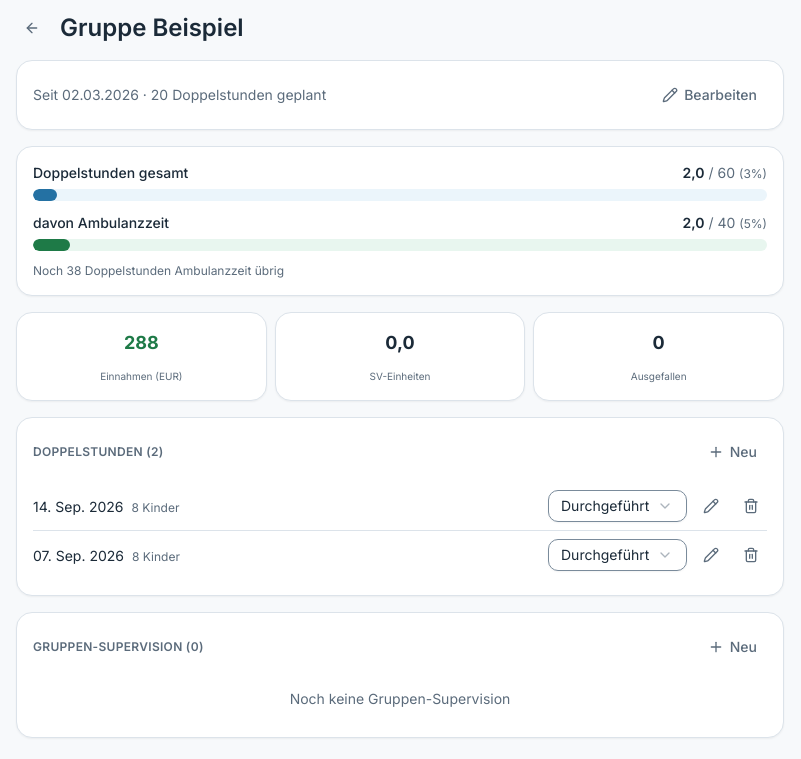
Test: GroupDetailClient › bearbeitet Name, Startdatum und geplante Doppelstunden nachträglich und zeigt den neuen Stand
Click the button "Bearbeiten".
click(710, 95)  # box [652,77,767,113]
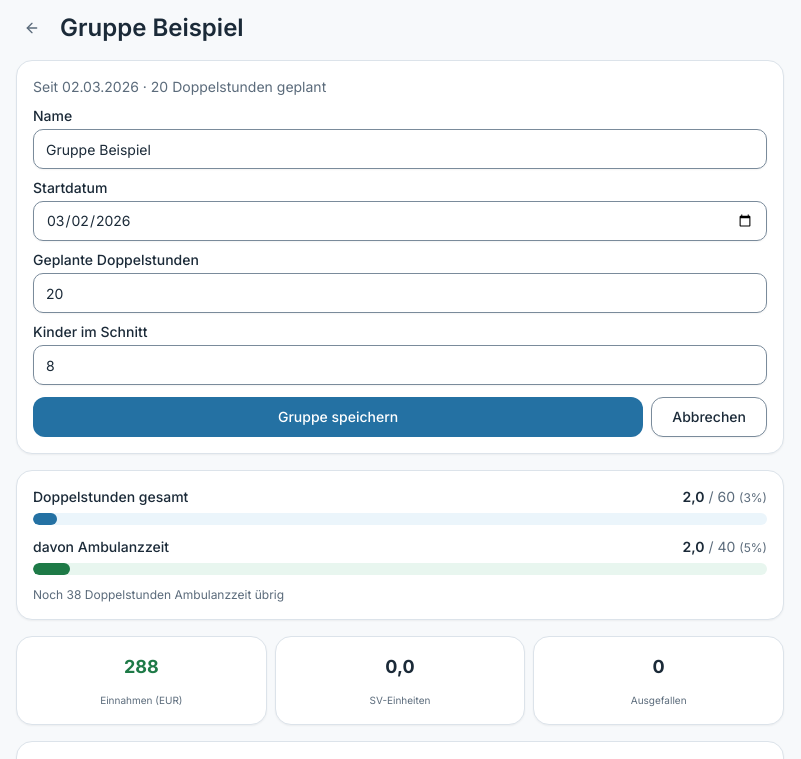
Replace the text in the field labelled "Name" with " PT-Gruppe " at (400, 149), box [33,129,767,169]
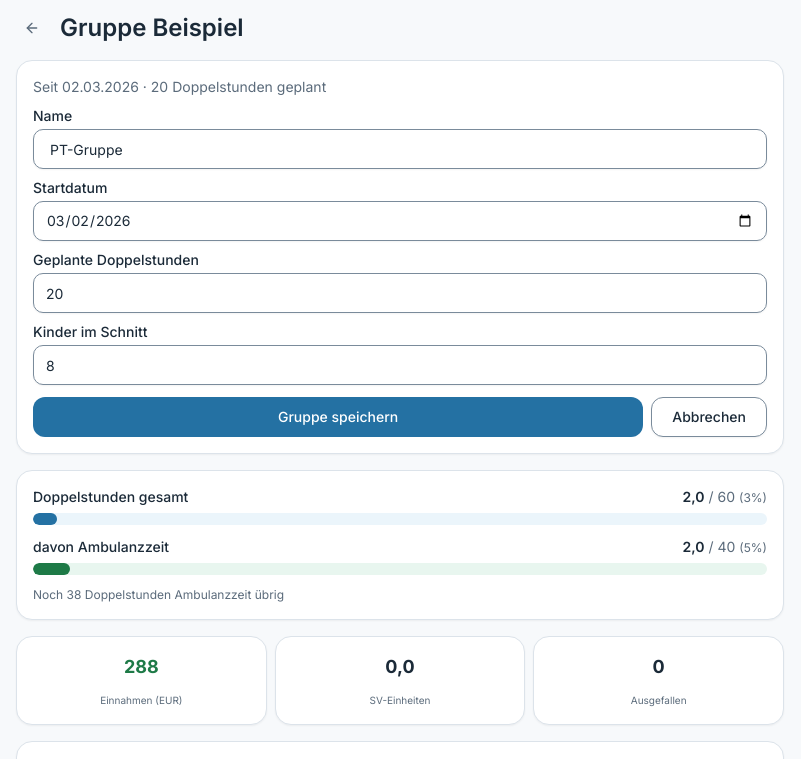
Type "2026-02-02" into the date field labelled "Startdatum".
click(400, 221); type("2026-02-02")  # box [33,201,767,241]
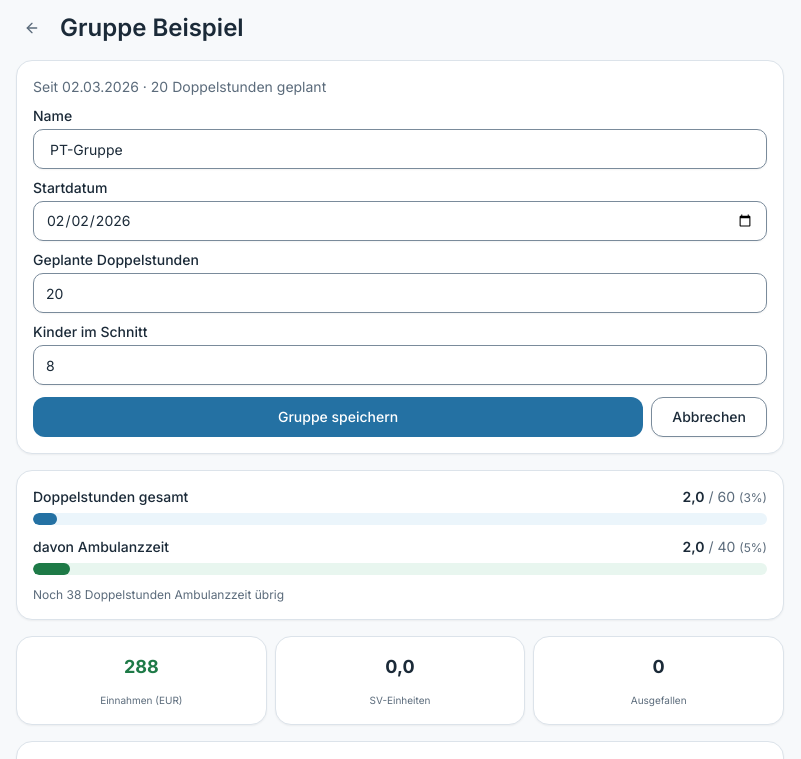
Replace the text in the number field labelled "Geplante Doppelstunden" with "40" at (400, 293), box [33,273,767,313]
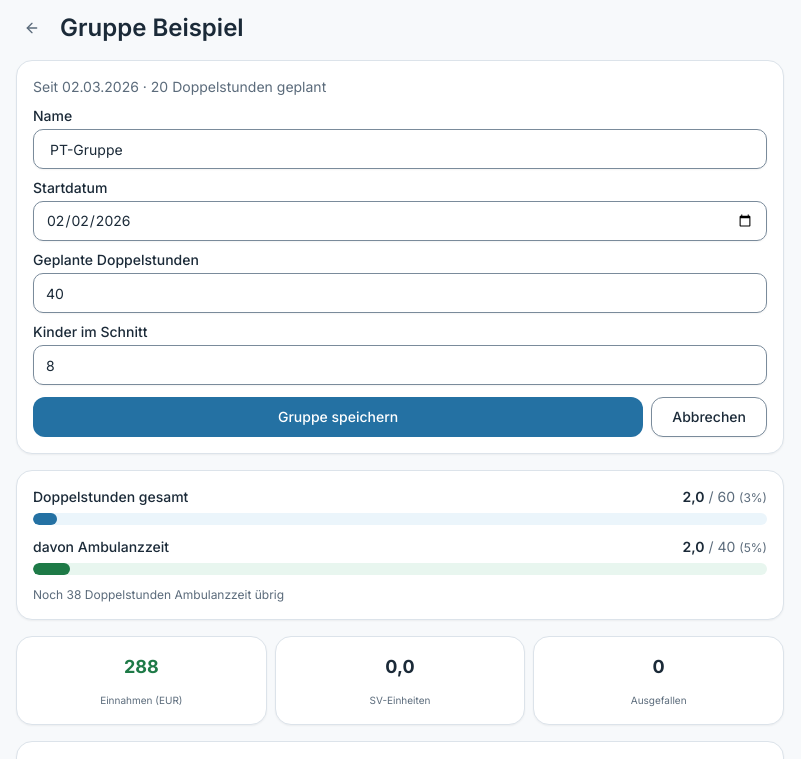
Clear the number field labelled "Kinder im Schnitt" at (400, 365), box [33,345,767,385]
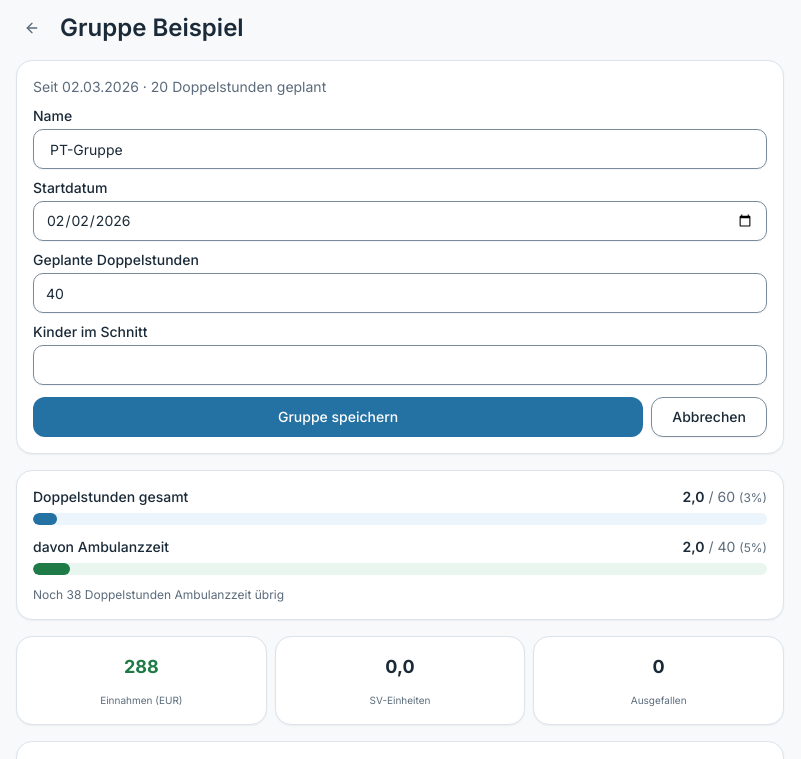
Click the button "Gruppe speichern".
click(338, 417)  # box [33,397,643,437]
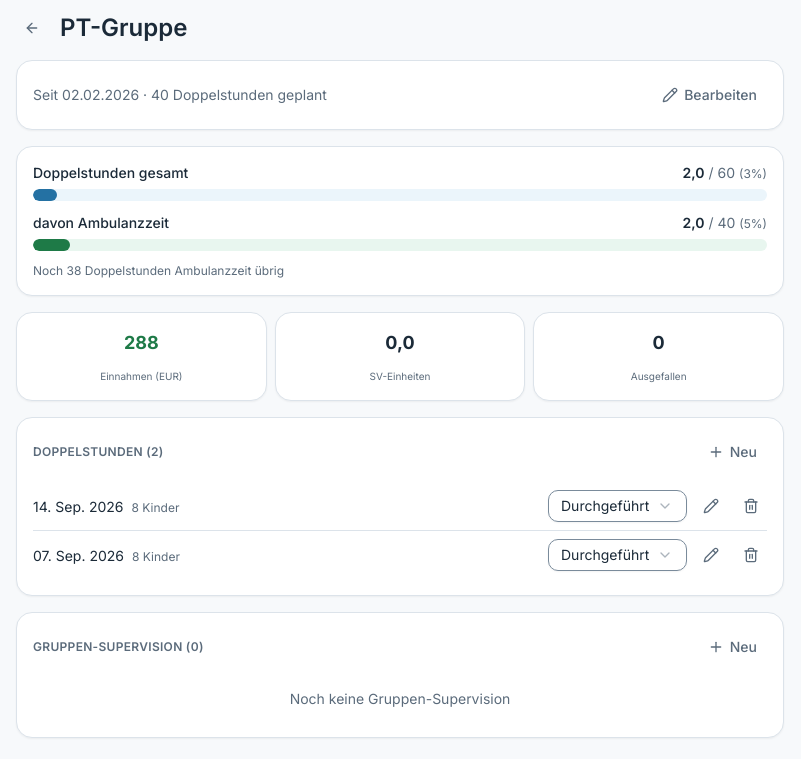
Expected: the text "Seit 02.02.2026 · 40 Doppelstunden geplant" is shown, [33,85,327,105]
